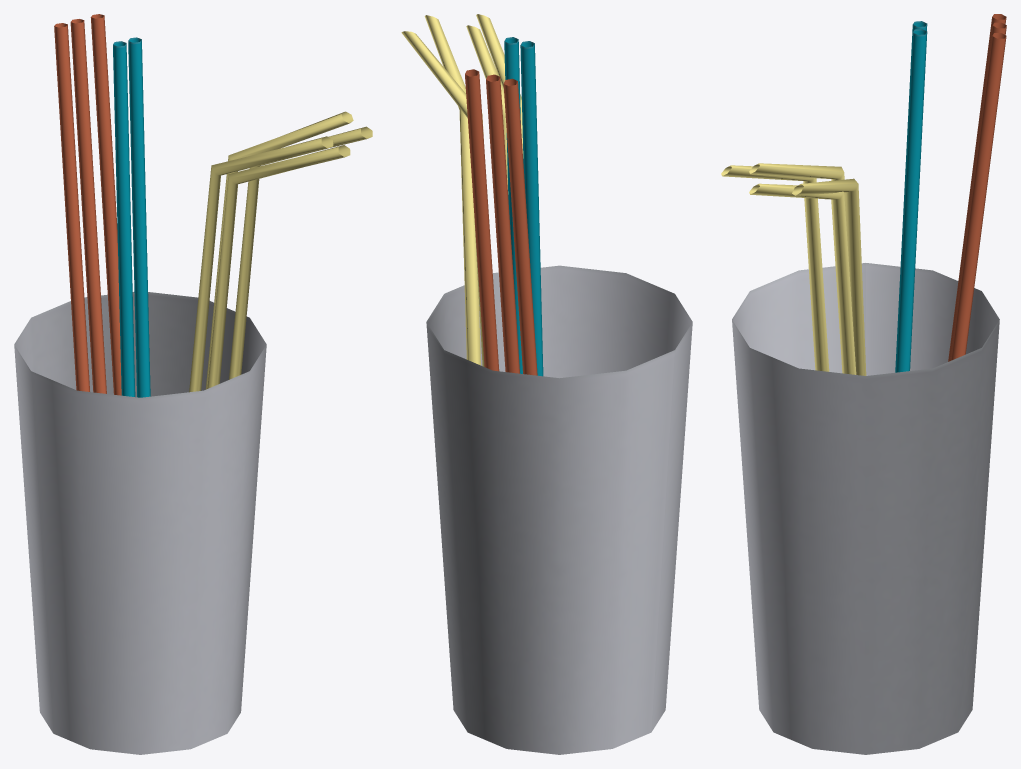
File: BianLiDian_01_xiguan_01.FBX
The picture shows the model from 3 angles, left to right: view 1: azimuth 30°, elevation 25°; view 2: azimuth 150°, elevation 25°; view 3: azimuth 270°, elevation 25°; orthographic projection. The views are drawn at different scales.
Parts seen in each view (by area): view 1: BianLiDian_01_xiguan_01; view 2: BianLiDian_01_xiguan_01; view 3: BianLiDian_01_xiguan_01.
Part boxes in pixels (left/top/right/bottom): BianLiDian_01_xiguan_01: left=14, top=14, right=372, bottom=754; BianLiDian_01_xiguan_01: left=401, top=14, right=692, bottom=754; BianLiDian_01_xiguan_01: left=721, top=14, right=1006, bottom=754.
Bounding box in the file's own units: 46.49 × 99.42 × 37.4.
